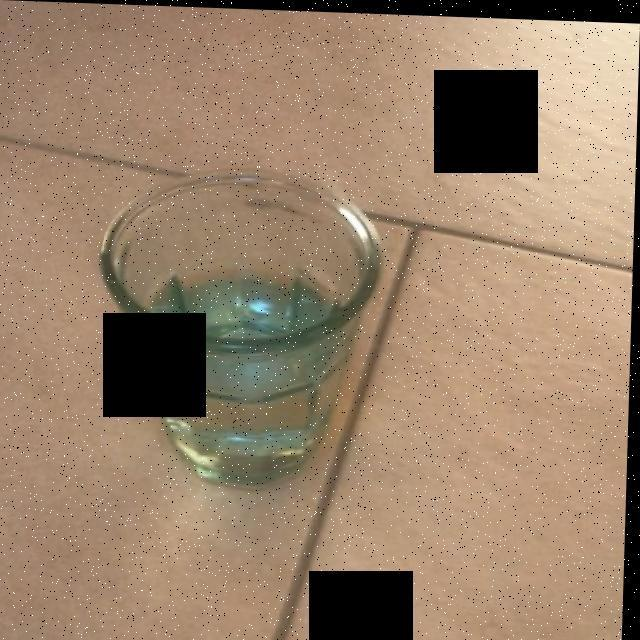water: (136, 260, 350, 476)
